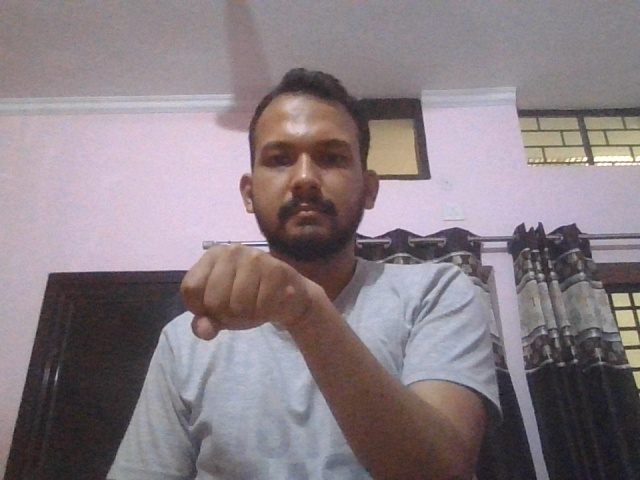yes: (181, 242, 327, 341)
